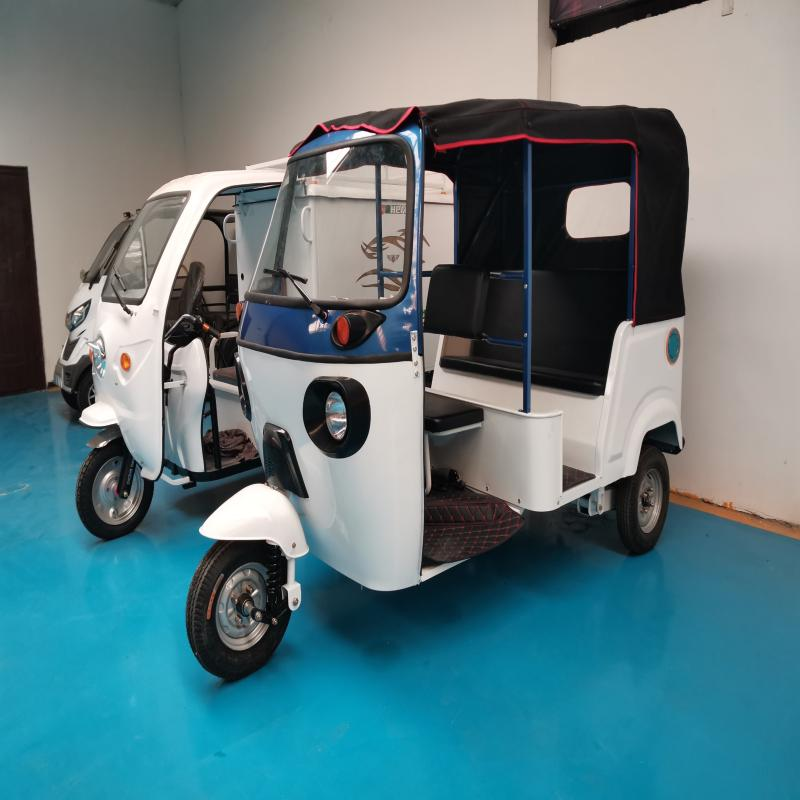auto: (250, 121, 672, 570)
